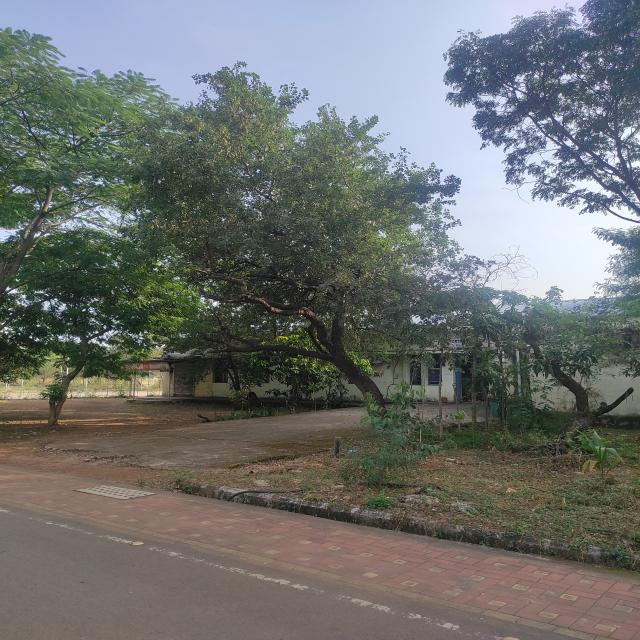Devakanchan tree: (164, 96, 396, 459)
